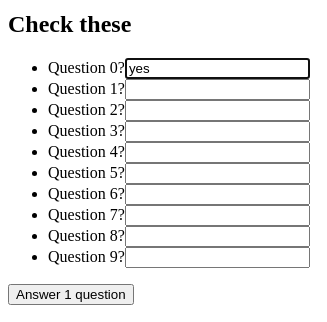
Scenario: GapsPanel › carries at most eight answers in one apply
The image size is (327, 322).
Earlier steps of the test are not shown.
Later steps or results of the test are not shown.
Type "yes" into the field labelled "Question 1?" at (217, 89), box left=125, top=79, right=310, bottom=100
Type "yes" into the field labelled "Question 2?" at (217, 110), box left=125, top=100, right=310, bottom=121
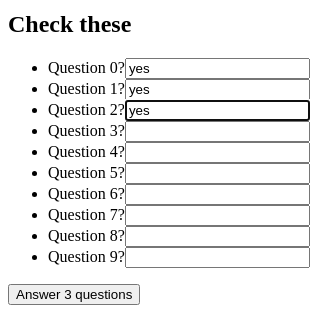
Type "yes" into the field labelled "Question 3?" at (217, 131), box left=125, top=121, right=310, bottom=142
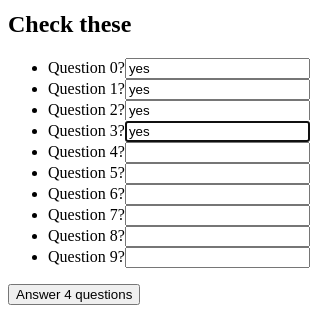
Type "yes" into the field labelled "Question 4?" at (217, 152), box left=125, top=142, right=310, bottom=163
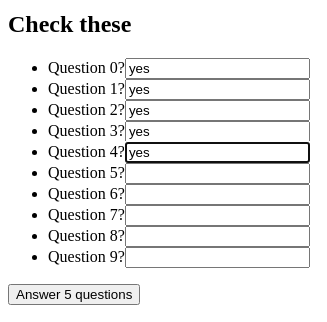
Type "yes" into the field labelled "Question 5?" at (217, 173), box left=125, top=163, right=310, bottom=184
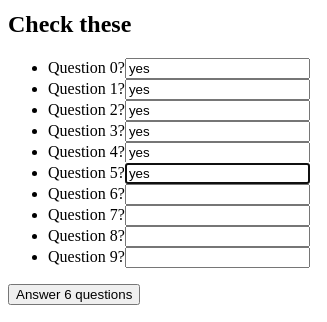
Type "yes" into the field labelled "Question 6?" at (217, 194), box left=125, top=184, right=310, bottom=205
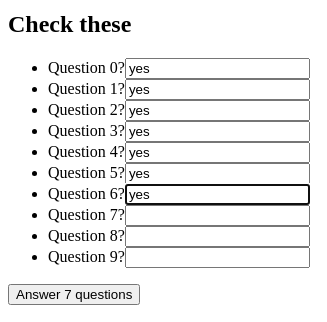
Type "yes" into the field labelled "Question 7?" at (217, 215), box left=125, top=205, right=310, bottom=226
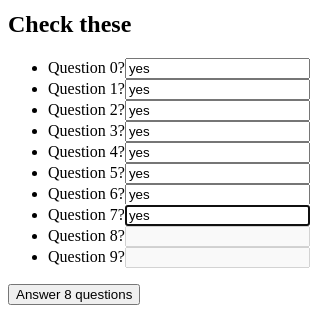
Now the field labelled "Question 8?" is disabled, box left=125, top=226, right=310, bottom=247
